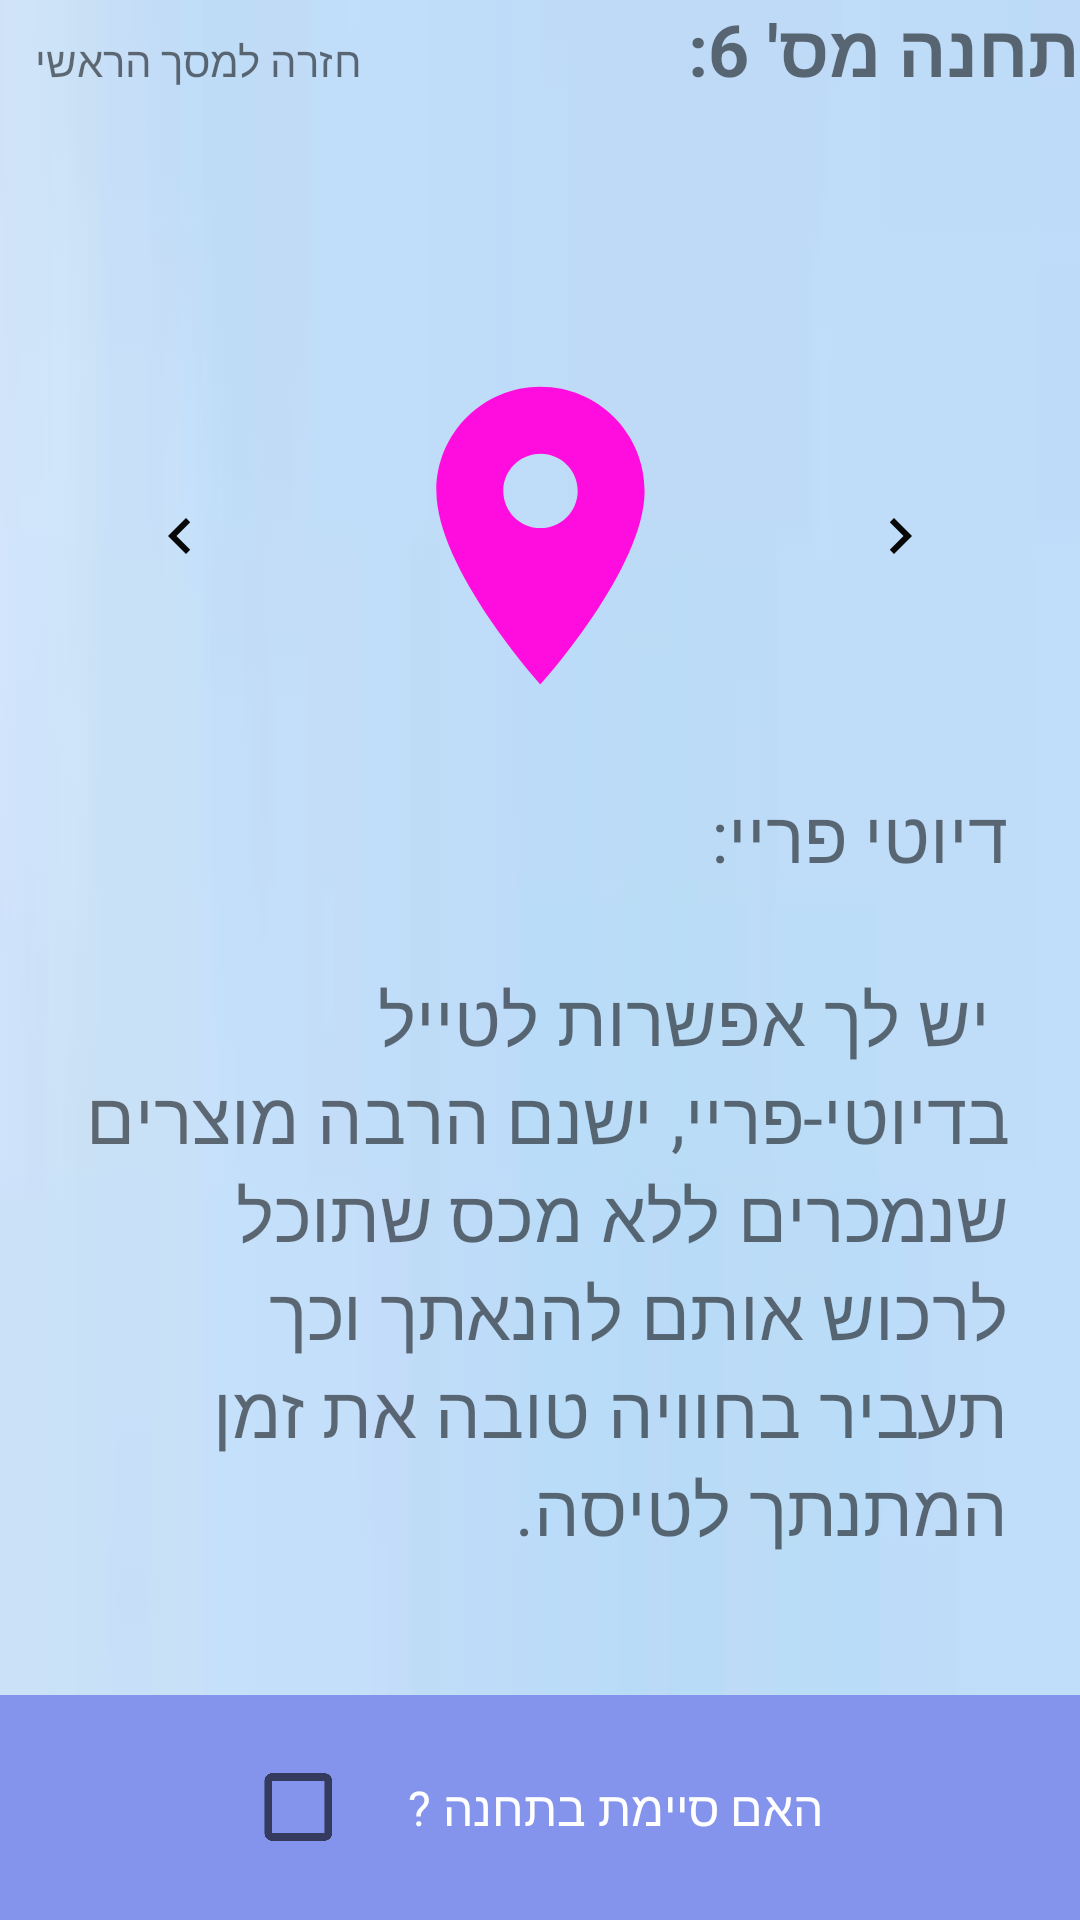

Screen size 1080*1920. Icon name, then its center in pixels as (x,y):
loc: (540,535)
navnext: (901,536)
